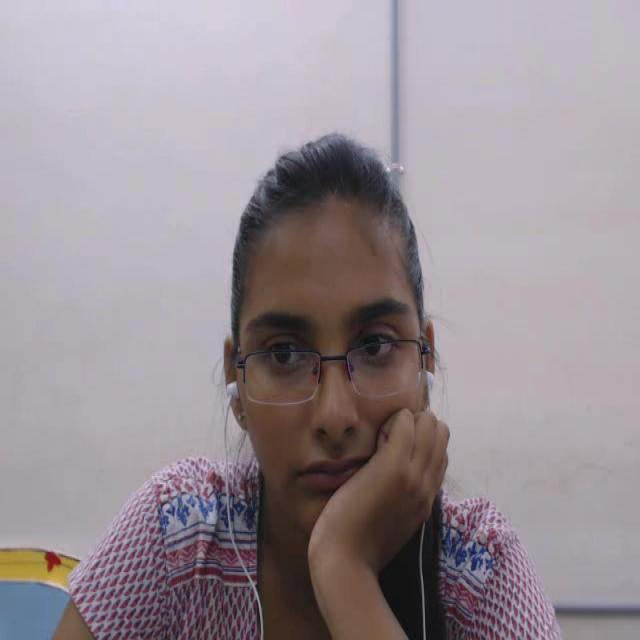Bored: (199, 97, 475, 580)
